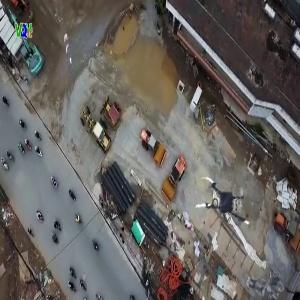drone: (186, 171, 256, 241)
